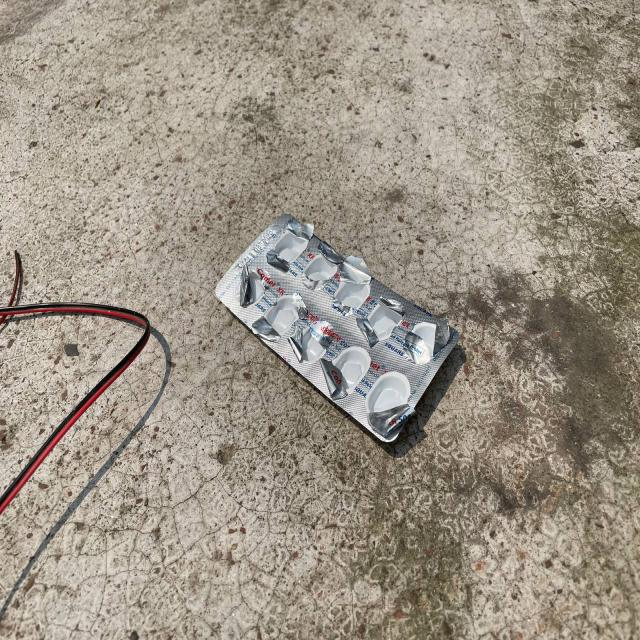Cable: (0, 246, 150, 574)
Medical Waste: (195, 197, 476, 480)
